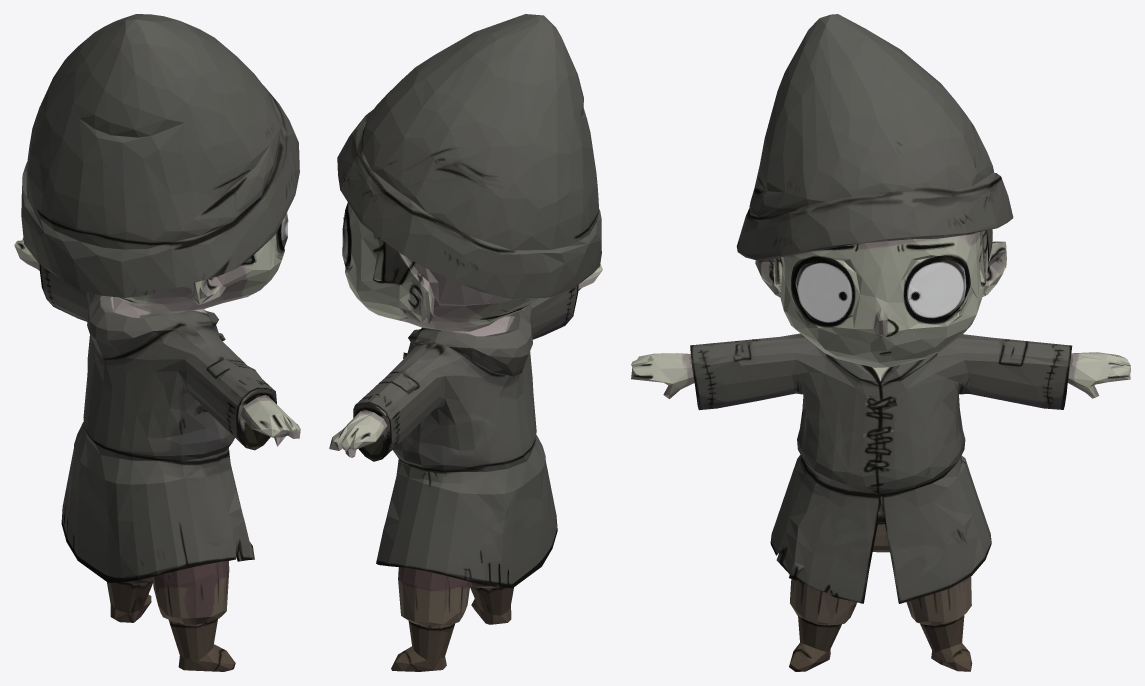
3 renders of one model, left to right at view 1: azimuth 30°, elevation 25°; view 2: azimuth 150°, elevation 25°; view 3: azimuth 270°, elevation 25°, orthographic. The views are drawn at different scales.
Parts seen in each view (by area): view 1: tripo_node_6aec5407-45d9-49ac-9b8f-d883a3591ca7; view 2: tripo_node_6aec5407-45d9-49ac-9b8f-d883a3591ca7; view 3: tripo_node_6aec5407-45d9-49ac-9b8f-d883a3591ca7.
Boxes of the visible parts, x1,y1,x2,y2 form: tripo_node_6aec5407-45d9-49ac-9b8f-d883a3591ca7: [14, 14, 300, 671]; tripo_node_6aec5407-45d9-49ac-9b8f-d883a3591ca7: [329, 14, 602, 671]; tripo_node_6aec5407-45d9-49ac-9b8f-d883a3591ca7: [631, 14, 1130, 671].
Size of the model in its own units: 0.3994 by 1 by 0.73.
Materials: 1 (1 with a texture image).
